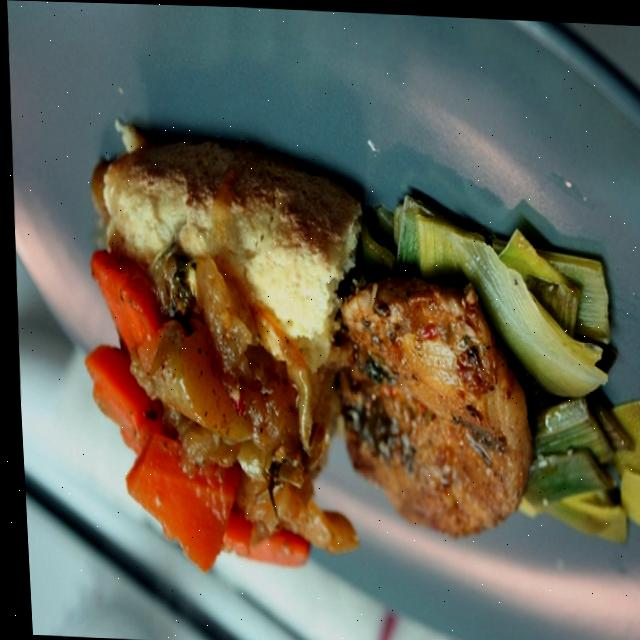猪肉菜式: (29, 42, 640, 624)
